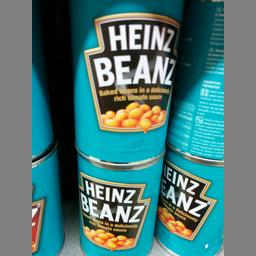beans: (71, 0, 175, 162), (66, 150, 167, 255), (160, 140, 227, 254)
